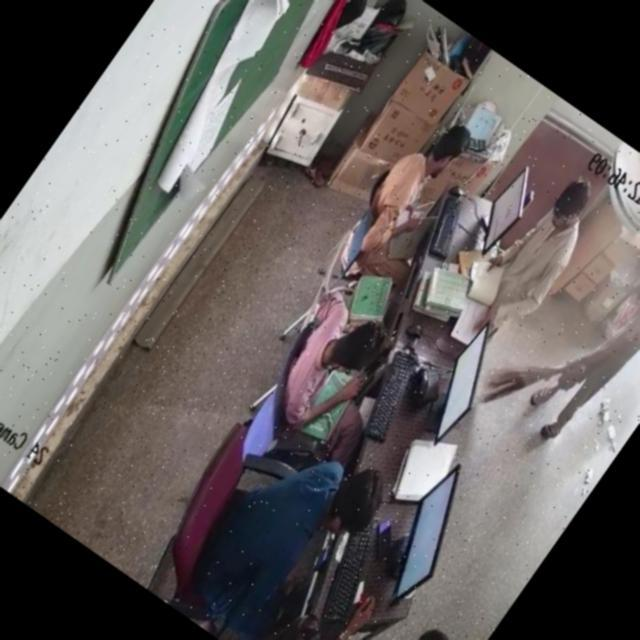person: (186, 425, 383, 640), (333, 111, 470, 276), (472, 172, 607, 338), (541, 264, 640, 440), (273, 304, 397, 438), (323, 609, 449, 640), (237, 602, 329, 640)
